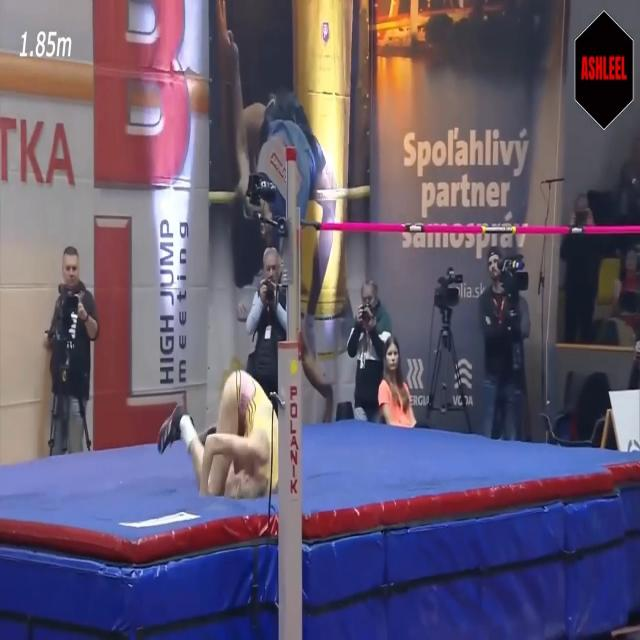land: (158, 371, 280, 498)
